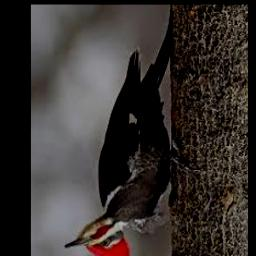Woodpecker: (65, 7, 200, 256)
